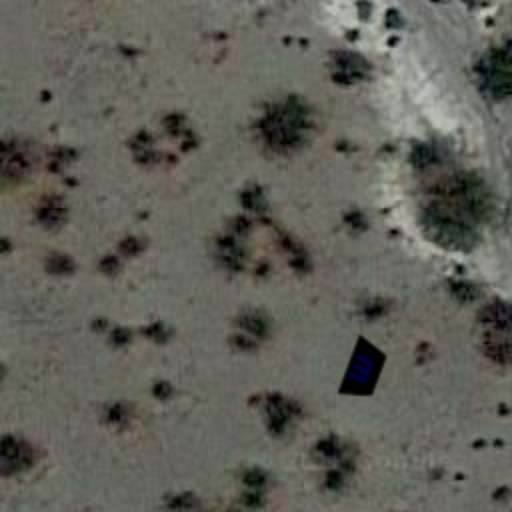trapezoid: (322, 328, 406, 412)
